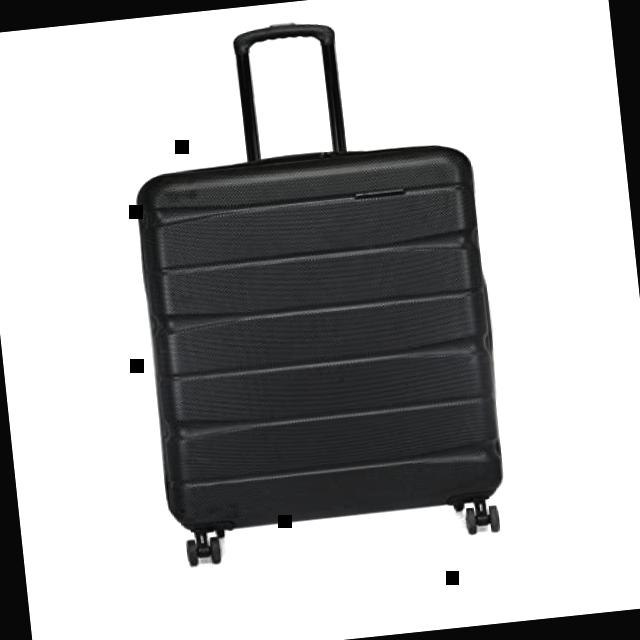luggage: (117, 121, 528, 576)
